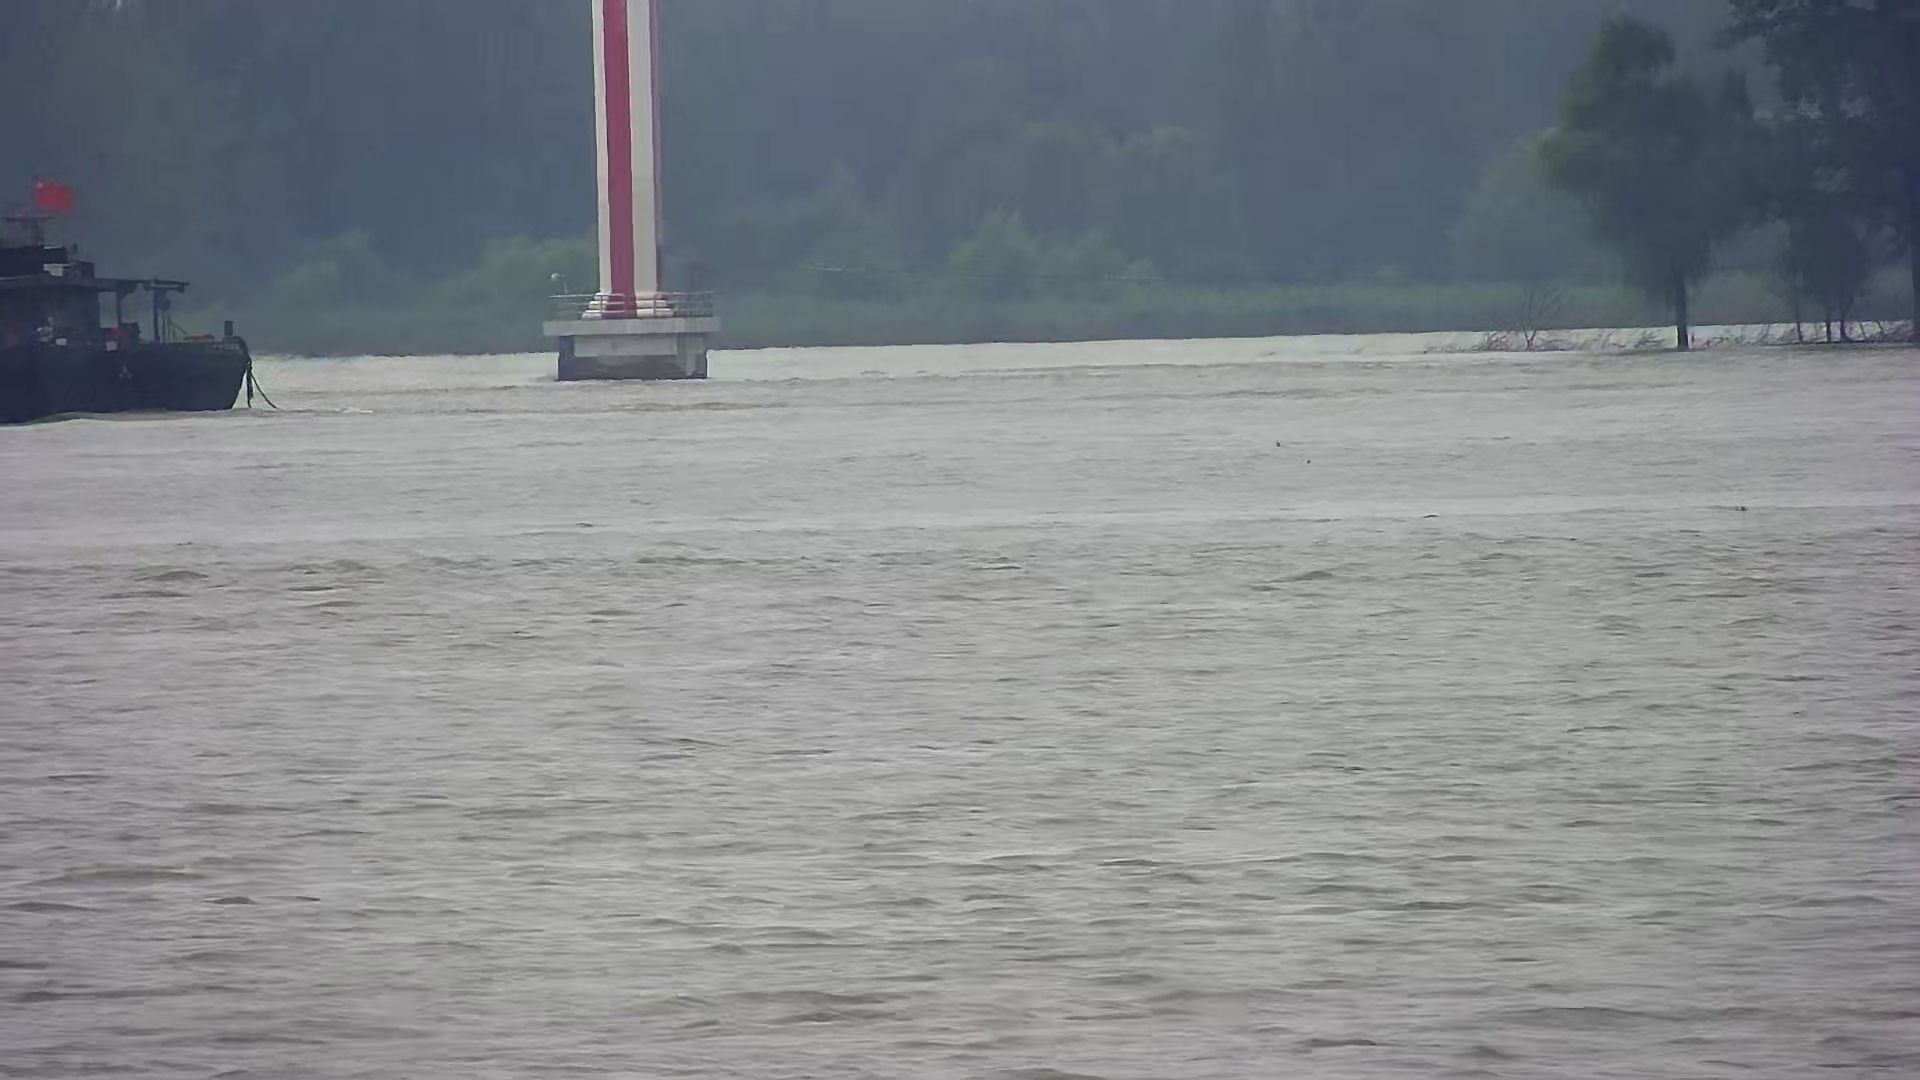platform: (543, 1, 720, 380)
ship: (1, 202, 258, 417)
tree: (1534, 18, 1768, 351), (1716, 3, 1920, 345)
